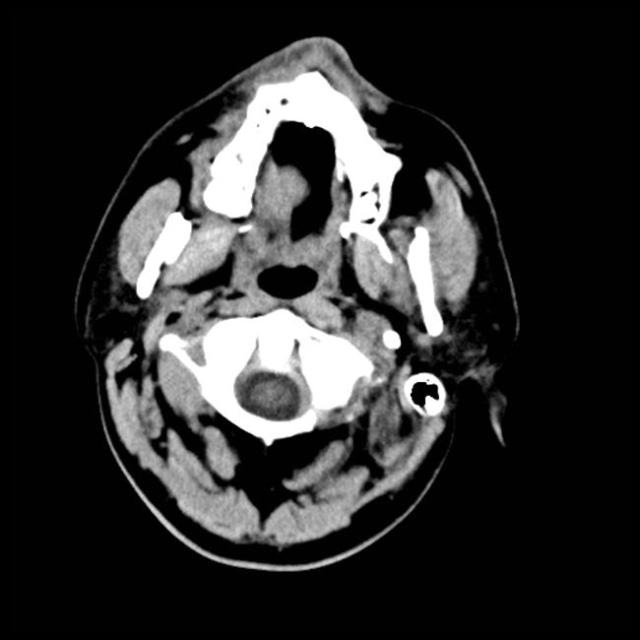lesion: (76, 37, 523, 565)
